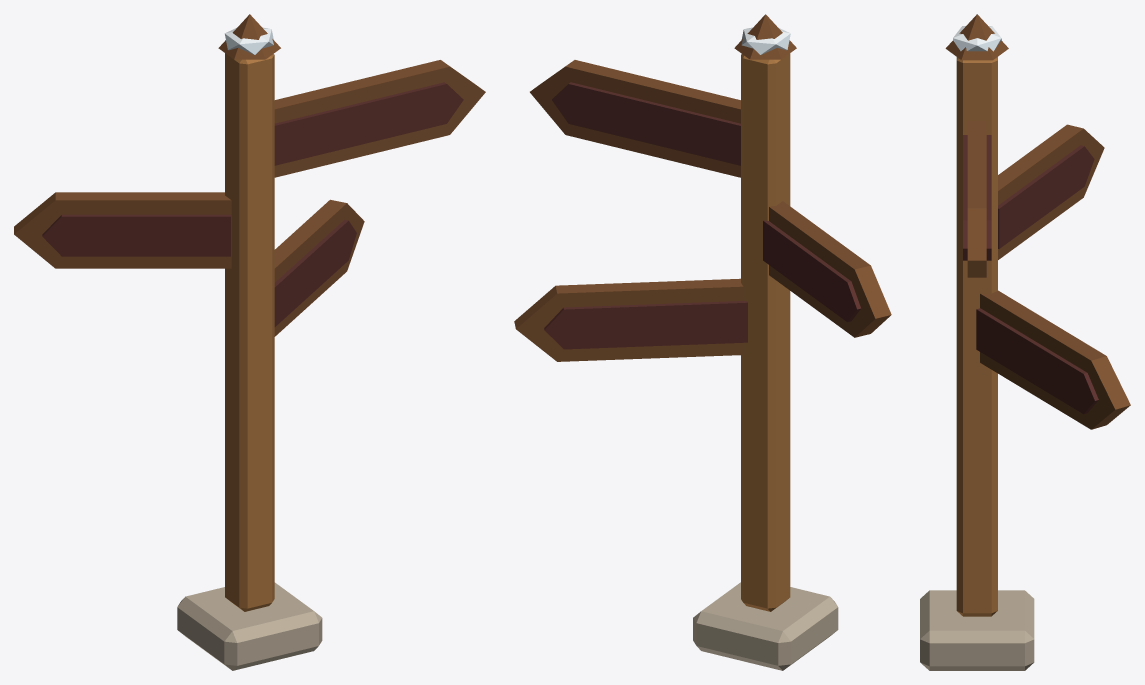
File: signpost.glb
3 views of the same model, side by side, from view 1: azimuth 30°, elevation 25°; view 2: azimuth 150°, elevation 25°; view 3: azimuth 270°, elevation 25° (orthographic).
Parts seen in each view (by area): view 1: signpost; view 2: signpost; view 3: signpost.
Boxes of the visible parts, <box> form: signpost: <box>14,14,485,670</box>; signpost: <box>514,14,891,670</box>; signpost: <box>920,14,1130,670</box>.
Bounding box in the file's own units: 1.51 × 2.21 × 0.6634.
